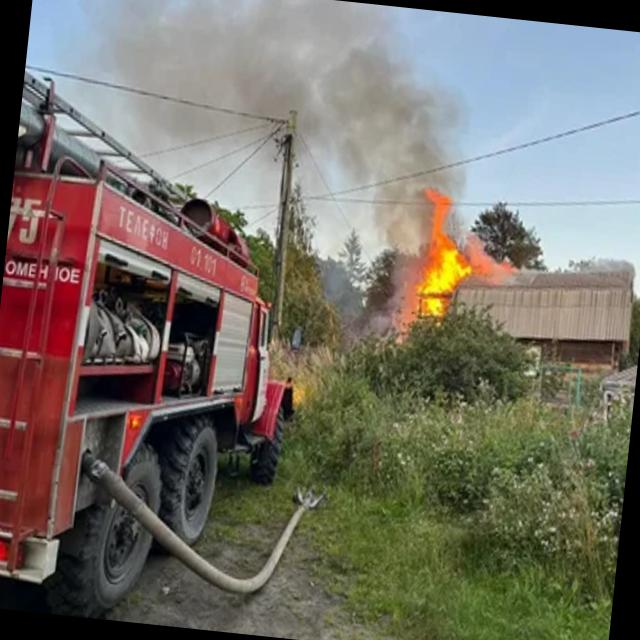Fire: (407, 187, 512, 308)
Smoke: (310, 0, 486, 276)
